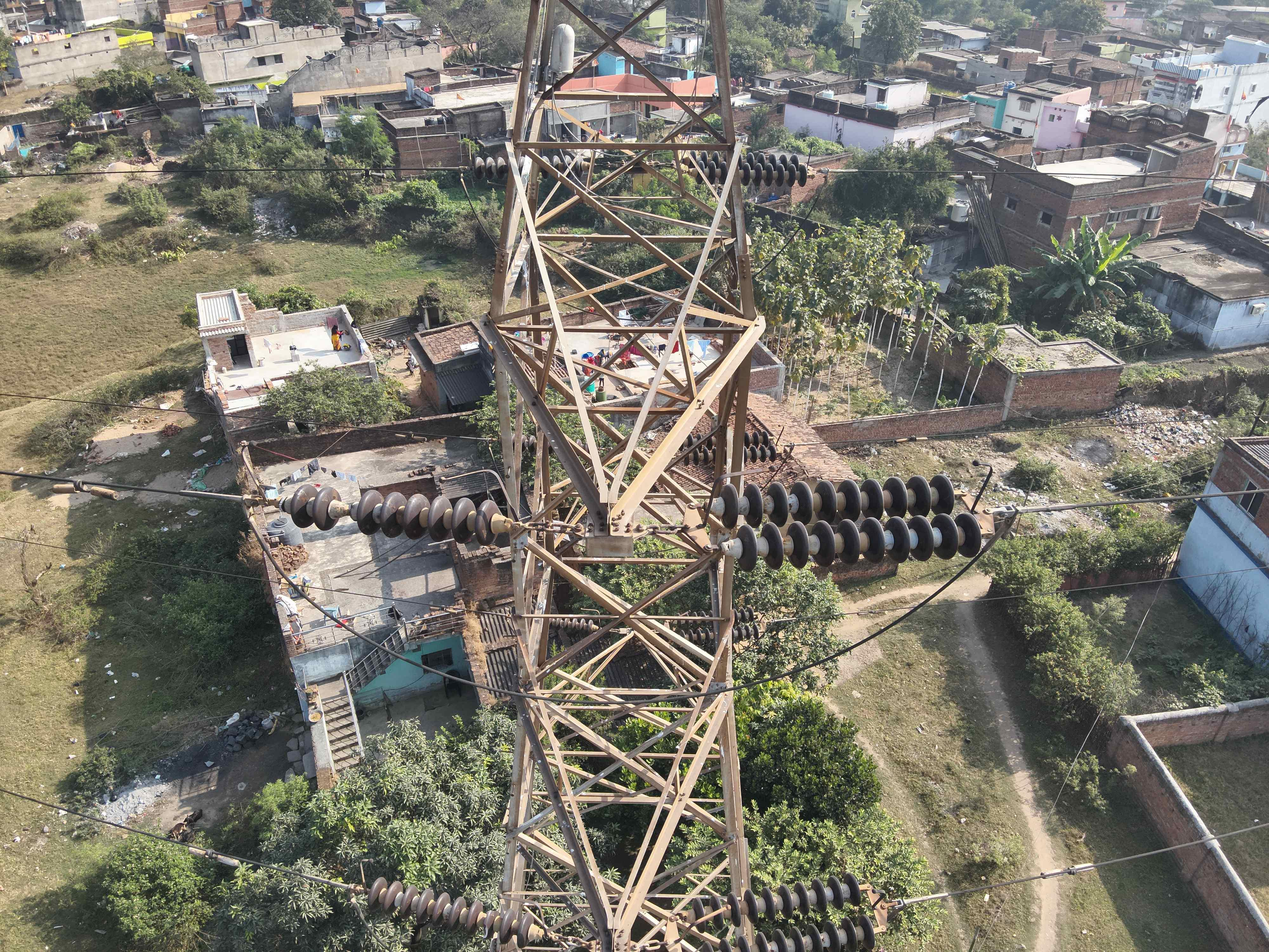broken_insulator: (338, 487, 356, 535), (483, 904, 499, 941), (736, 626, 745, 642)
